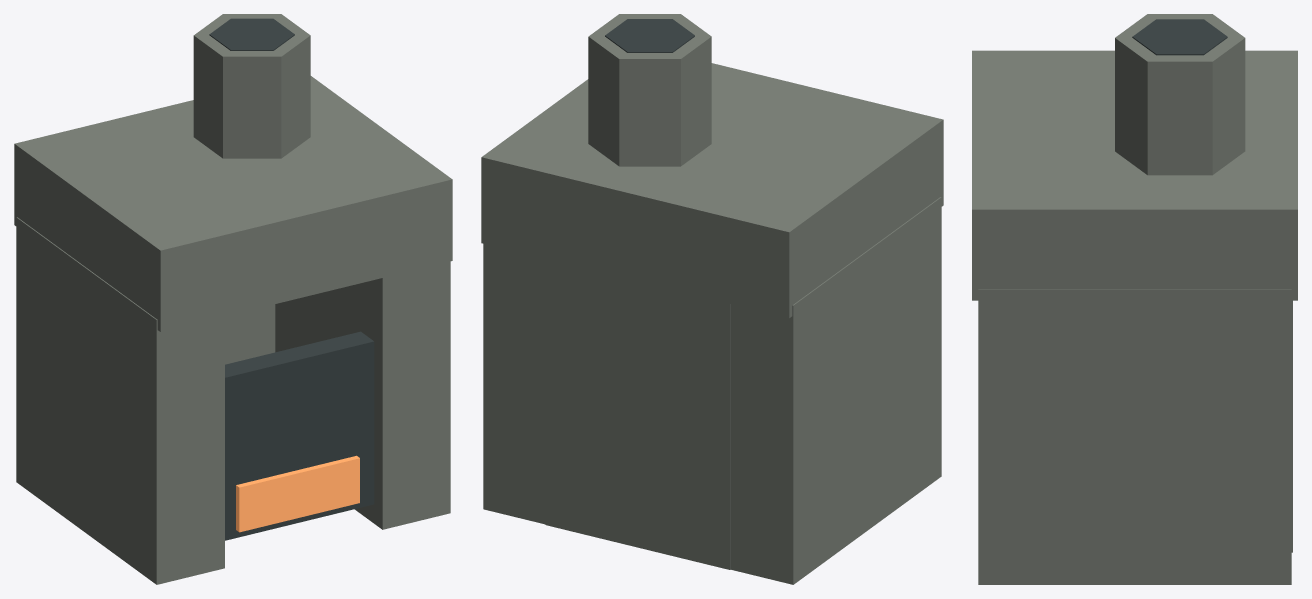
The model's file is furnace.glb.
3 views of the same model, side by side, from view 1: azimuth 30°, elevation 25°; view 2: azimuth 150°, elevation 25°; view 3: azimuth 270°, elevation 25° (orthographic). The views are drawn at different scales.
Parts seen in each view (by area): view 1: furnace; view 2: furnace; view 3: furnace.
Boxes of the visible parts, box(x1,y1,x2,y2) form: furnace: box(14, 14, 452, 584); furnace: box(481, 14, 943, 584); furnace: box(972, 14, 1297, 584).
Bounding box in the file's own units: 1.51 × 2.16 × 1.3.
